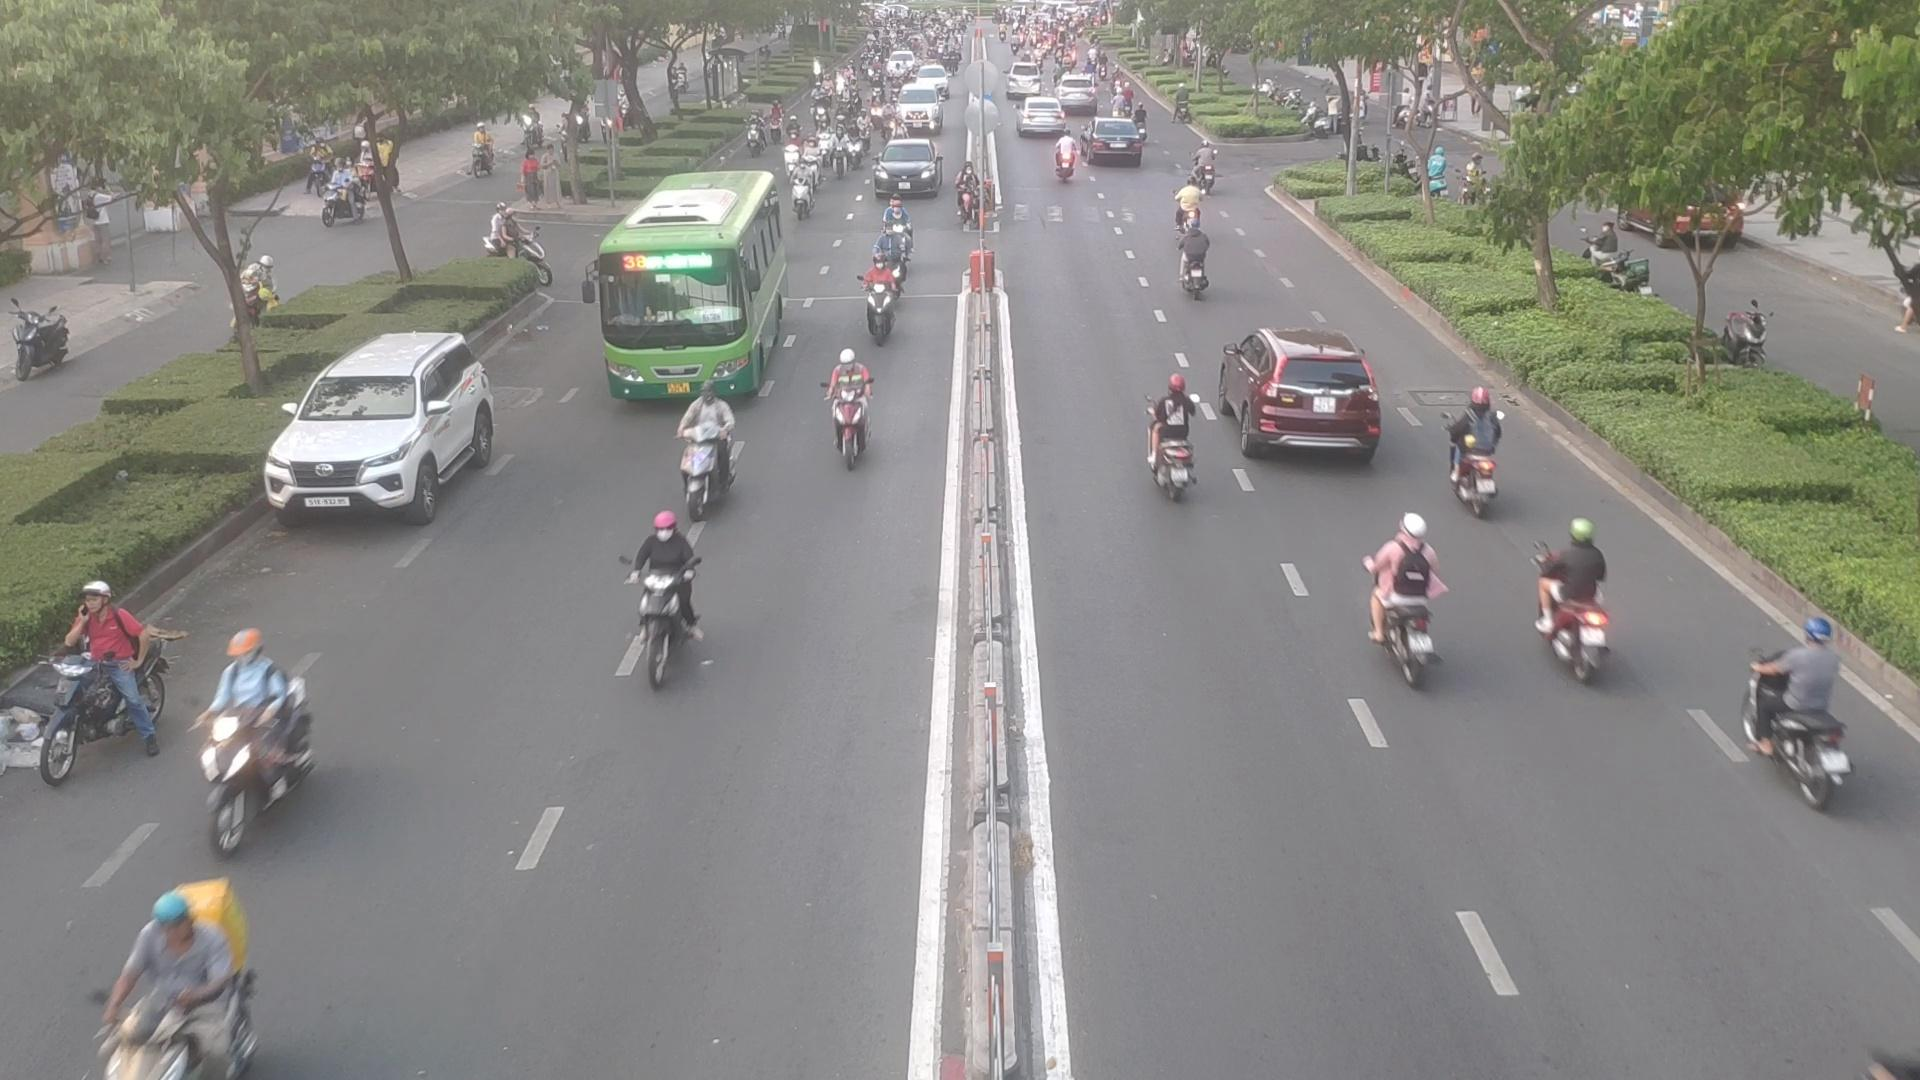bus: (592, 191, 798, 411)
car: (266, 331, 512, 527), (1218, 320, 1385, 462), (870, 136, 942, 195), (1077, 119, 1149, 165), (1017, 100, 1067, 138)
motorbike: (92, 890, 258, 1080), (193, 646, 318, 844), (1727, 617, 1853, 806), (612, 516, 705, 680), (1356, 525, 1455, 676), (1527, 520, 1615, 674), (1129, 376, 1208, 500), (1443, 393, 1513, 512), (678, 392, 752, 502), (819, 352, 884, 468), (853, 262, 907, 352), (1168, 229, 1212, 298), (866, 224, 913, 272), (1174, 179, 1205, 235), (1050, 137, 1080, 186), (837, 123, 866, 169)
